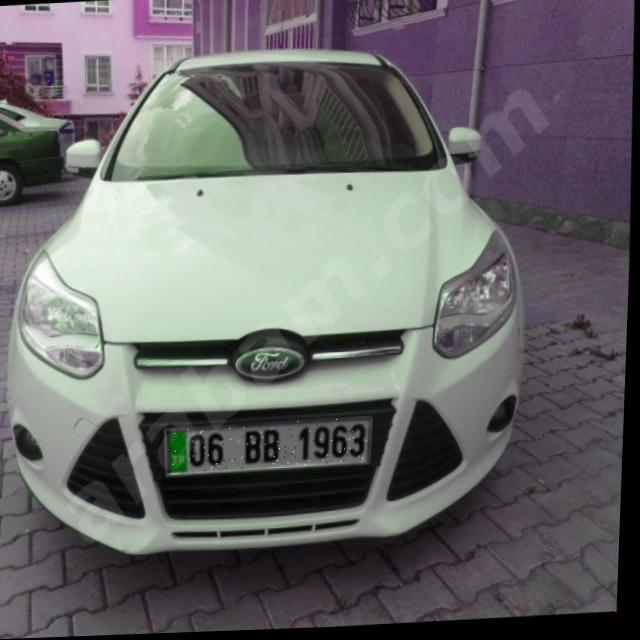license_plate: (169, 419, 375, 474)
